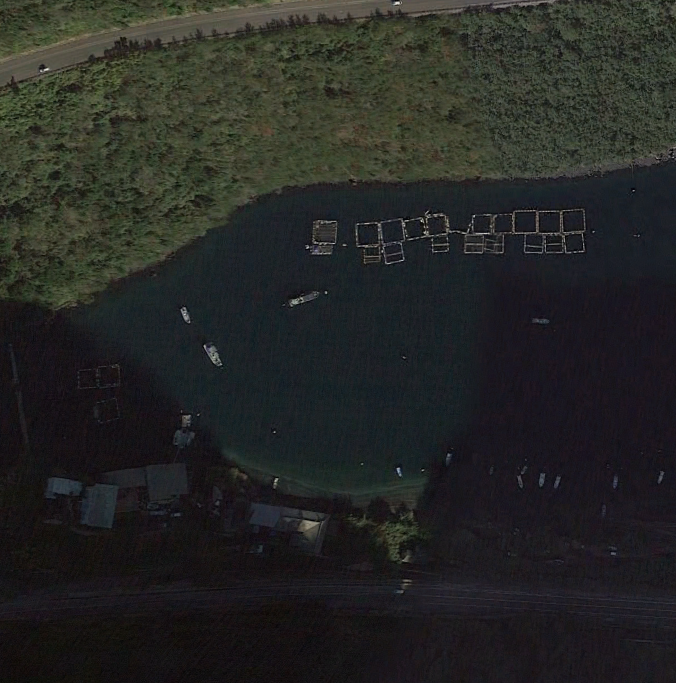house: (236, 495, 332, 561), (142, 455, 196, 516), (101, 461, 151, 513), (76, 474, 112, 535), (38, 472, 84, 507)
ship: (285, 283, 325, 312), (199, 335, 225, 371), (176, 297, 196, 325), (652, 463, 669, 488), (533, 314, 558, 326), (549, 472, 564, 492), (391, 462, 407, 480), (596, 499, 611, 518), (610, 468, 622, 490), (537, 468, 549, 490), (444, 449, 455, 468), (515, 473, 528, 489)
square: (307, 214, 343, 251), (534, 199, 568, 238), (90, 359, 124, 393), (555, 206, 591, 237), (91, 397, 127, 426), (351, 216, 383, 247), (511, 204, 542, 236), (399, 211, 430, 242), (377, 217, 408, 246), (379, 241, 409, 270), (422, 210, 453, 237), (558, 229, 589, 256), (468, 209, 496, 237), (520, 228, 545, 258), (462, 230, 487, 260), (481, 231, 510, 256), (75, 363, 101, 390), (488, 210, 516, 235), (429, 234, 455, 253)
